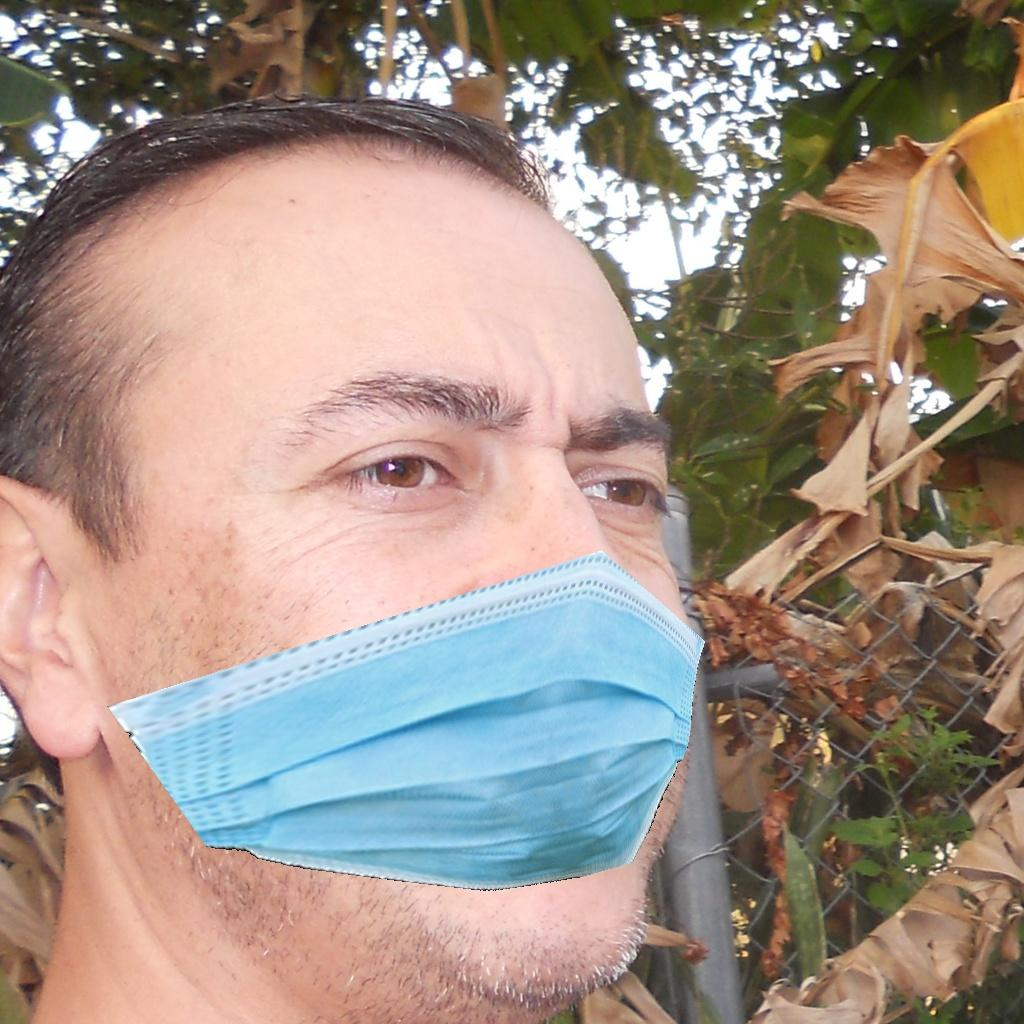Com Máscara: (132, 318, 725, 975)
